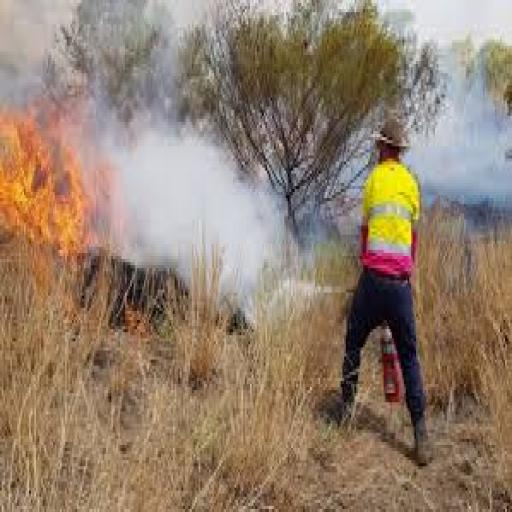fire: (3, 110, 91, 302)
smoke: (112, 137, 326, 320)
